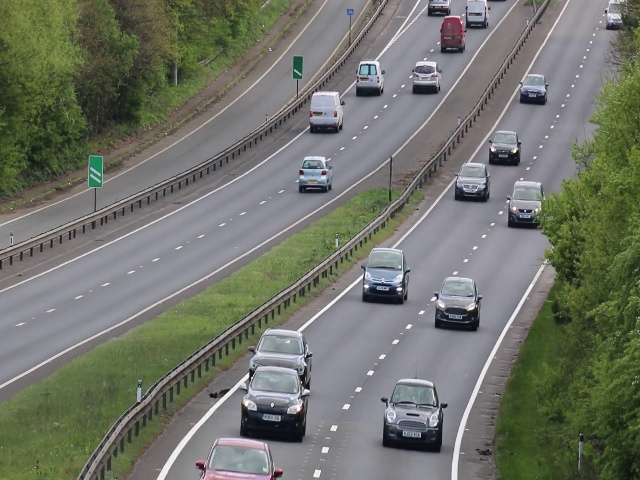car: (242, 363, 307, 441), (382, 375, 442, 455), (200, 438, 278, 480), (363, 244, 407, 308), (434, 278, 480, 332), (506, 179, 545, 226), (306, 90, 347, 134), (258, 326, 310, 359), (296, 152, 336, 192), (454, 159, 490, 201), (517, 66, 549, 104), (410, 58, 442, 96), (355, 57, 385, 95), (437, 16, 466, 55), (490, 129, 520, 163), (464, 1, 490, 27)
